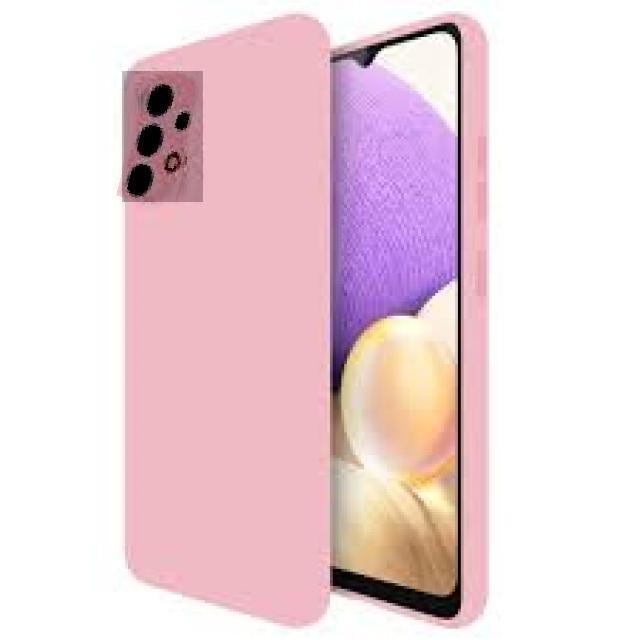lens: (125, 82, 195, 202)
phone: (121, 15, 328, 634), (326, 12, 484, 631)
